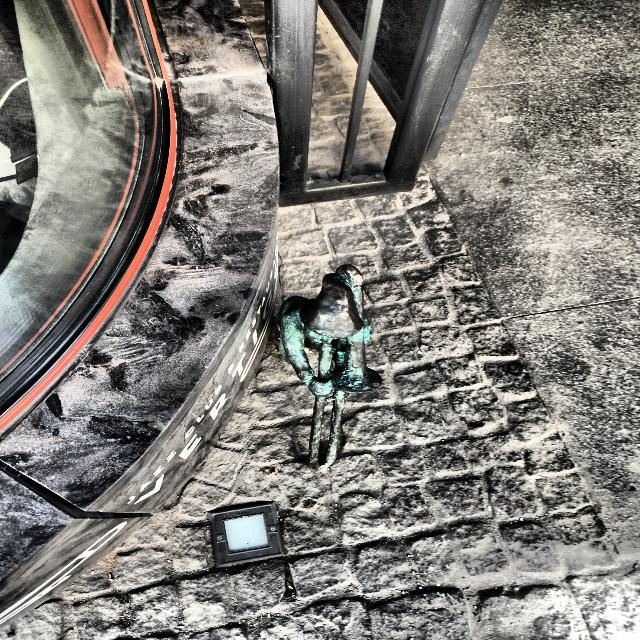Vertigus: (278, 265, 382, 469)
